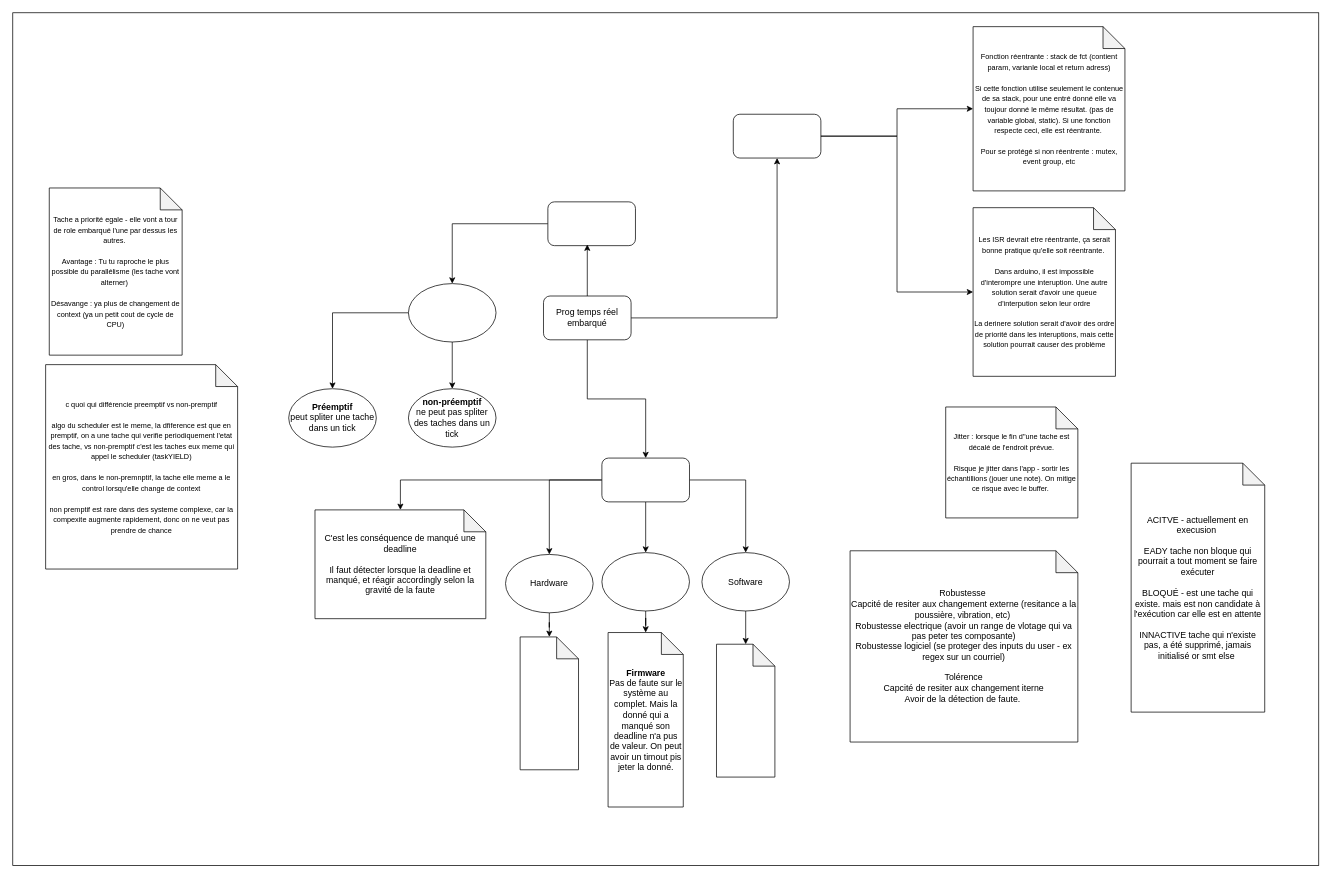
Some shapes in this 1332 by 878 pixel diagram are drawn without their labels. The shapes that lost their labels are listed below. From the top down, each one's centre as x and y in pixels, then its label:
point (777, 136): Communication inter-tâche
point (591, 223): FreeRTOS
point (452, 312): Scheduler
point (645, 479): Contrainte temps réelle
point (645, 581): Firmware
point (549, 703): Hardware Le système au complet tombe en faute si la donné manque sa deadline
point (745, 710): Software pas de gros problème, ne fait que réduire la qualité utilisauter
